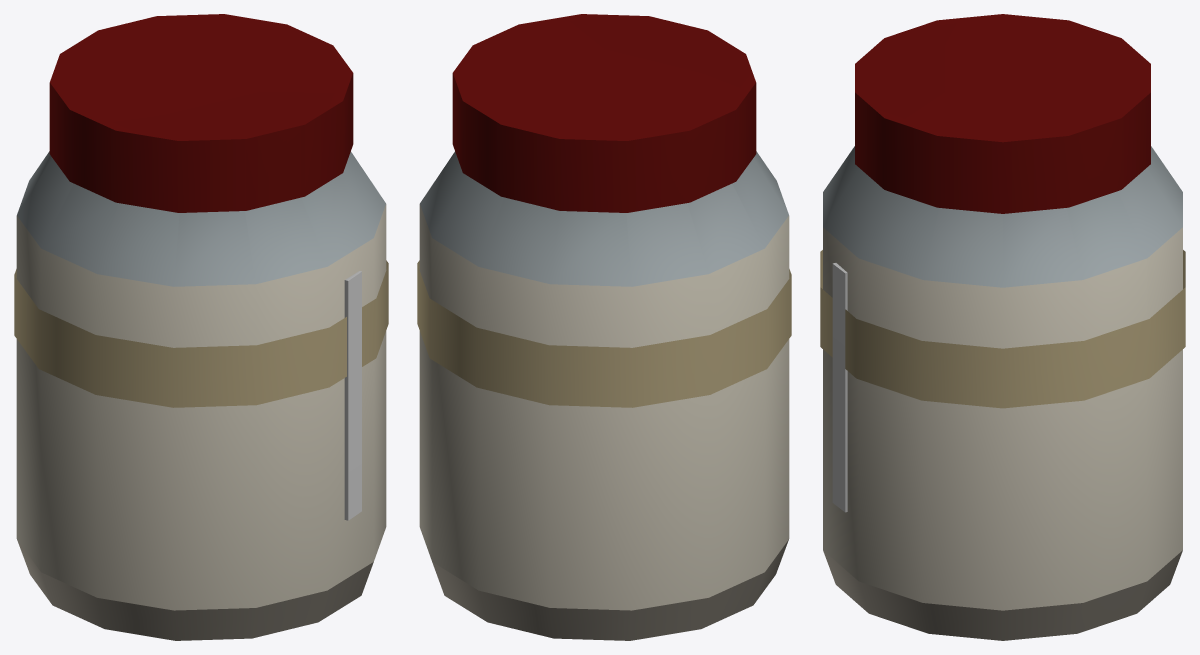
Rendered from fm_milk.glb.
3 renders of one model, left to right at view 1: azimuth 30°, elevation 25°; view 2: azimuth 150°, elevation 25°; view 3: azimuth 270°, elevation 25°, orthographic.
Parts seen in each view (by area): view 1: fm_milk; view 2: fm_milk; view 3: fm_milk.
Boxes of the visible parts, x1,y1,x2,y2 form: fm_milk: (14, 14, 388, 640); fm_milk: (417, 14, 791, 640); fm_milk: (820, 14, 1185, 640).
Size of the model in its own units: 0.284 by 0.41 by 0.2769.
